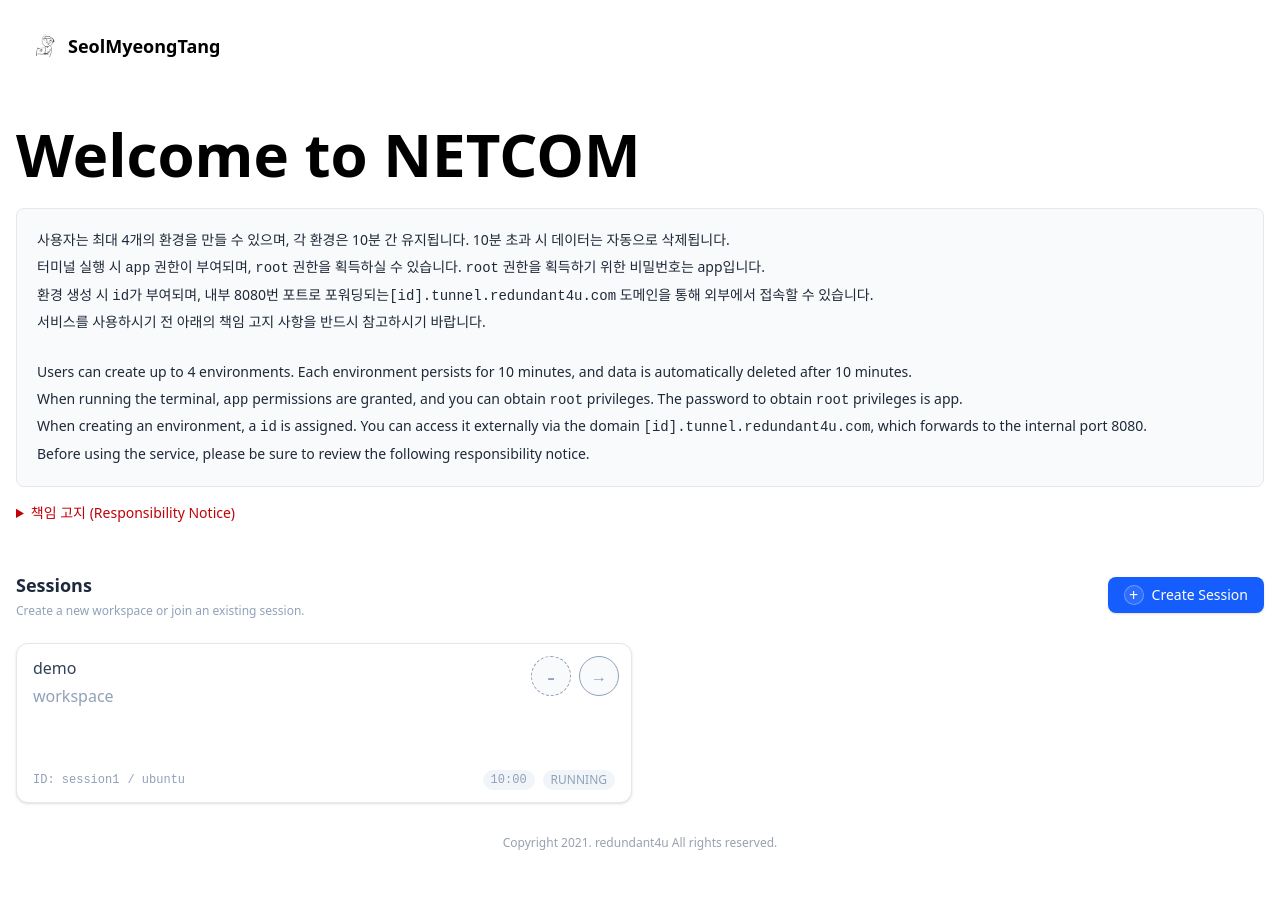
it: creates a session with true existing identity and resets/closes the form
Expected: the text "demo" is shown, [33,657,76,679]
Click the text "Create Session". click: (1200, 595)
box: [1152,585,1248,605]
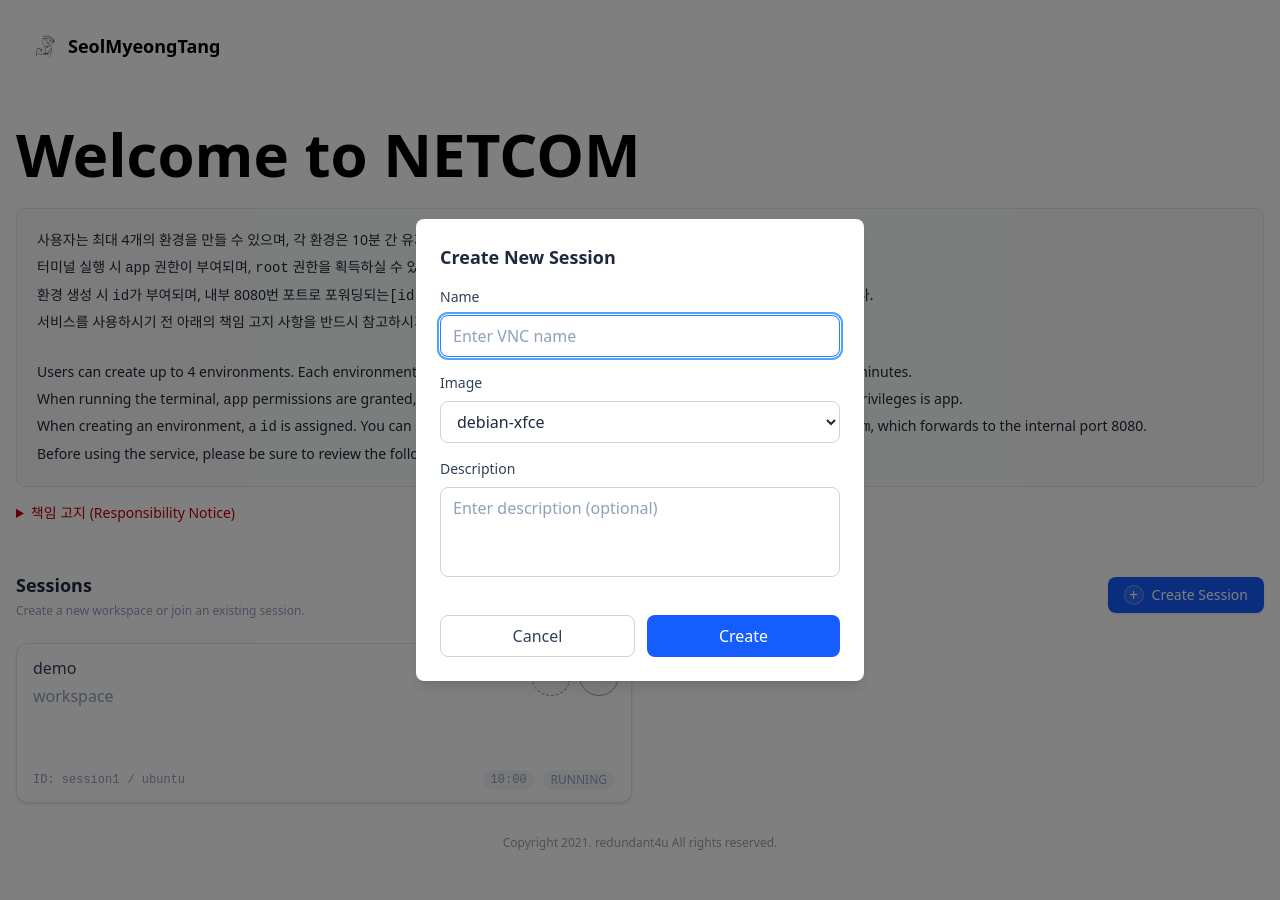
Type " work " into the field labelled "Name". click: (640, 336)
box: [440,315,840,357]
Select "ubuntu" in the dropdown labelled "Image". click: (640, 422)
box: [440,401,840,443]
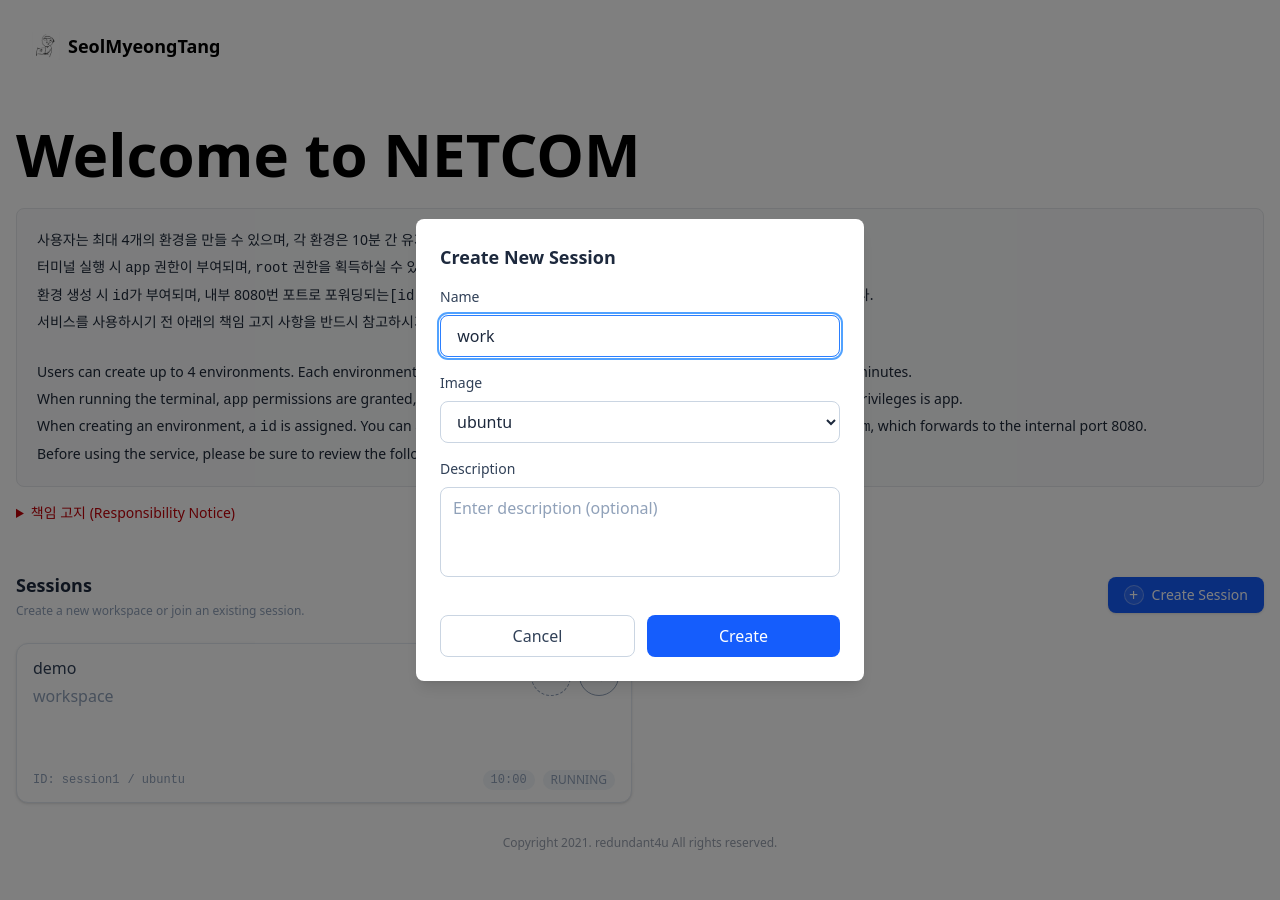
Type " test " into the text box labelled "Description". click: (640, 532)
box: [440,487,840,577]
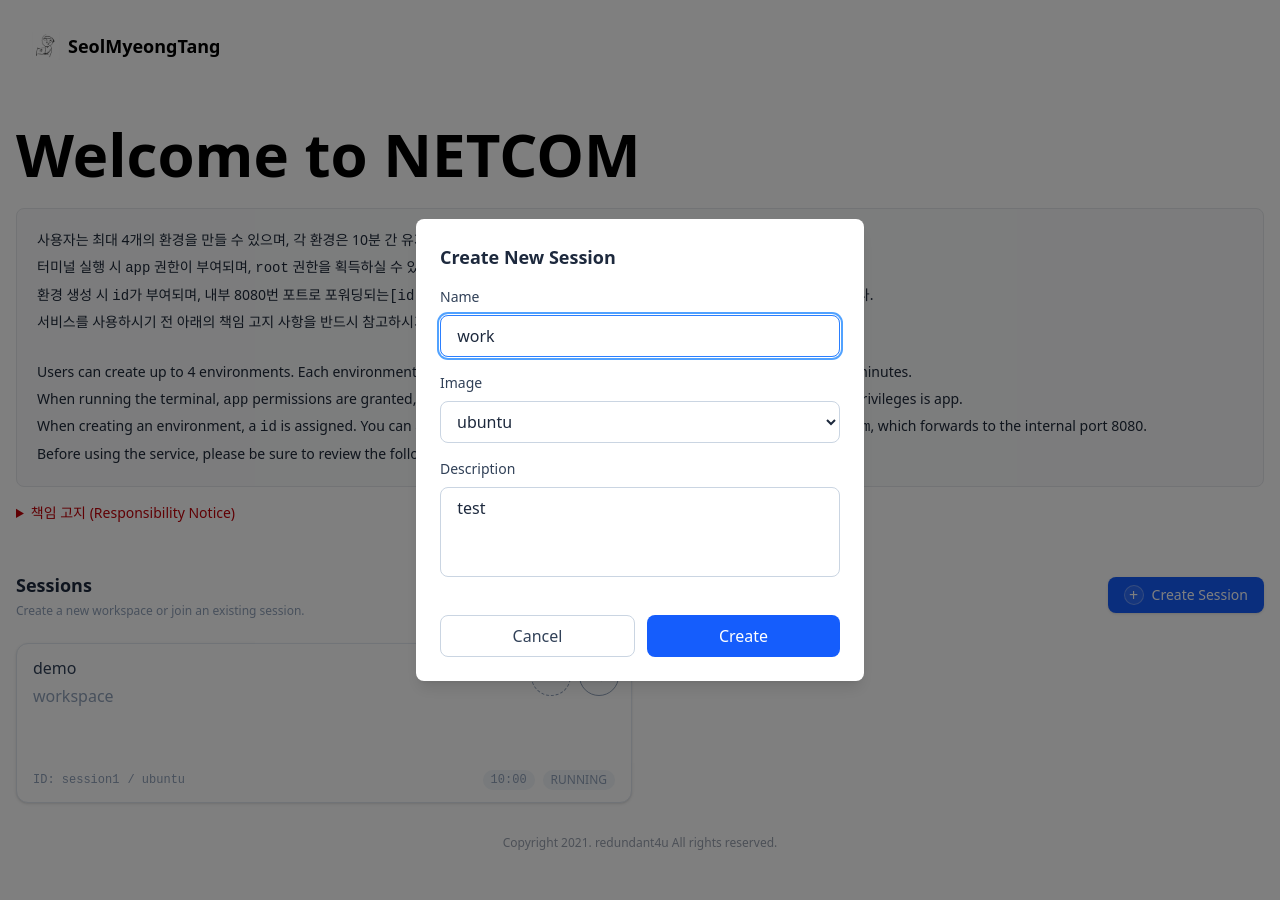
Click the button "Create". click: (744, 636)
box: [647,615,840,657]
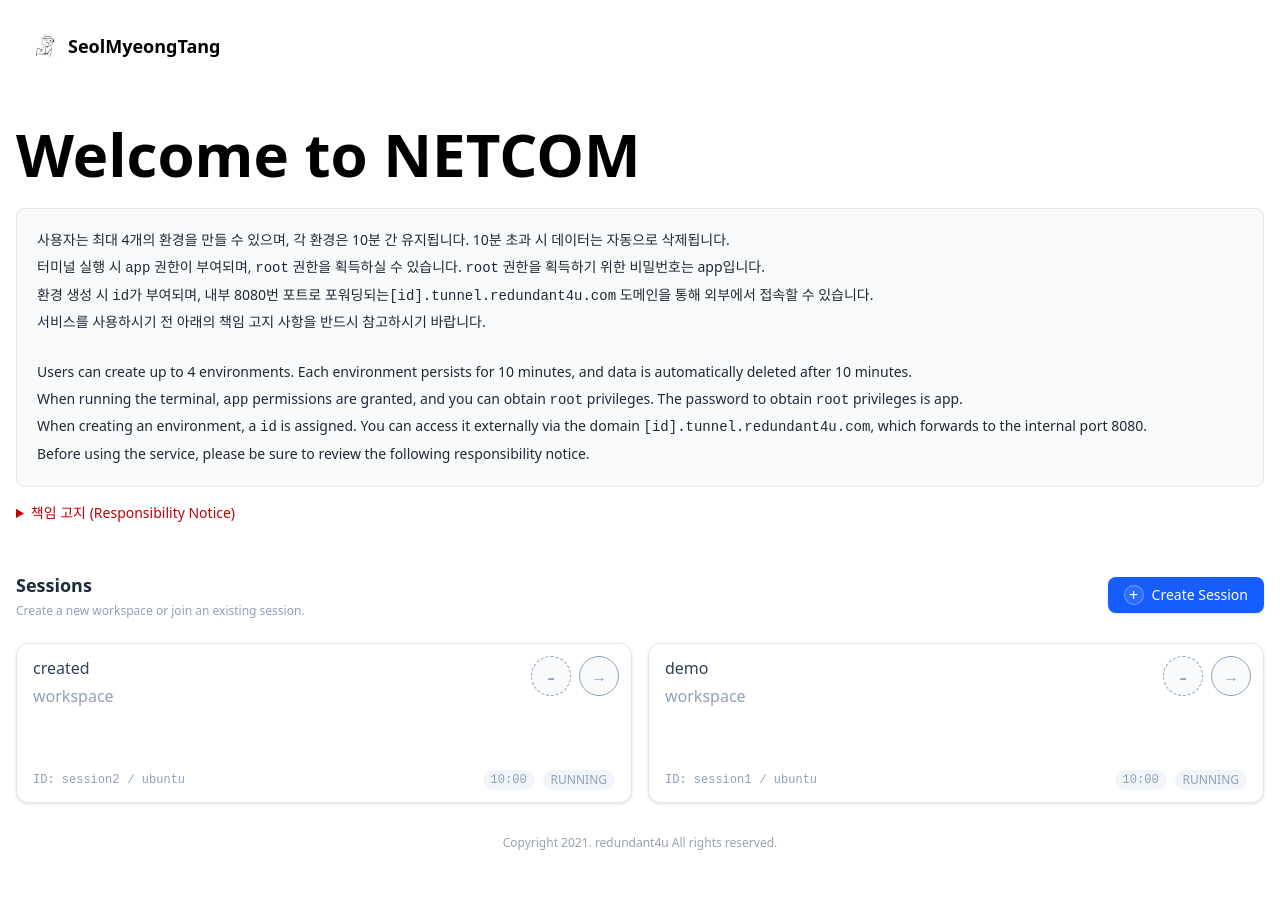
Expected: the text "created" is shown, [33,657,90,679]
Expected: the heading "Create New Session" is gone
Click the text "Create Session". click: (1200, 595)
box: [1152,585,1248,605]
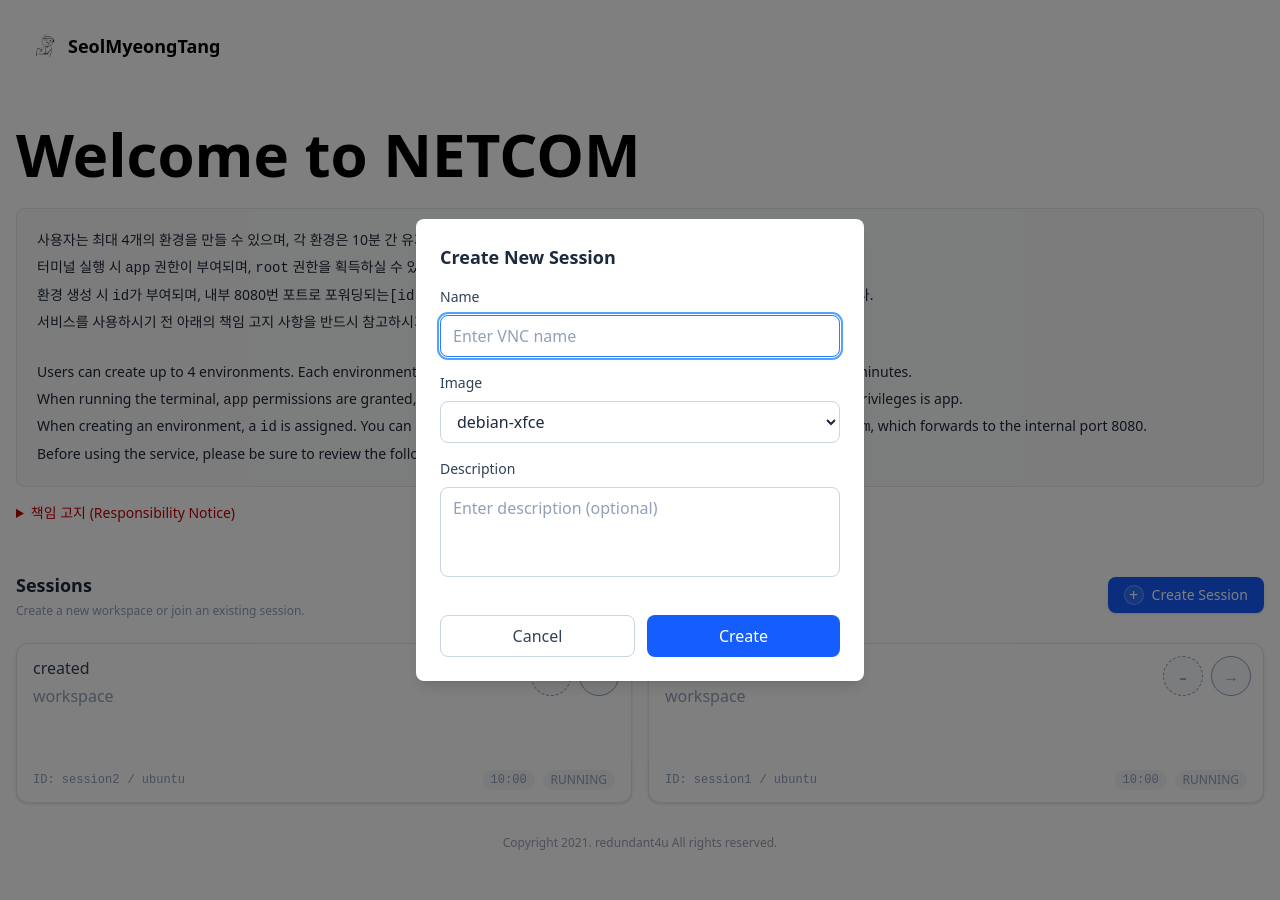
Expected: the field labelled "Name" is empty, [440,315,840,357]
Expected: the dropdown labelled "Image" shows "debian-xfce", [440,401,840,443]
Click the button "Cancel". click: (538, 636)
box: [440,615,635,657]
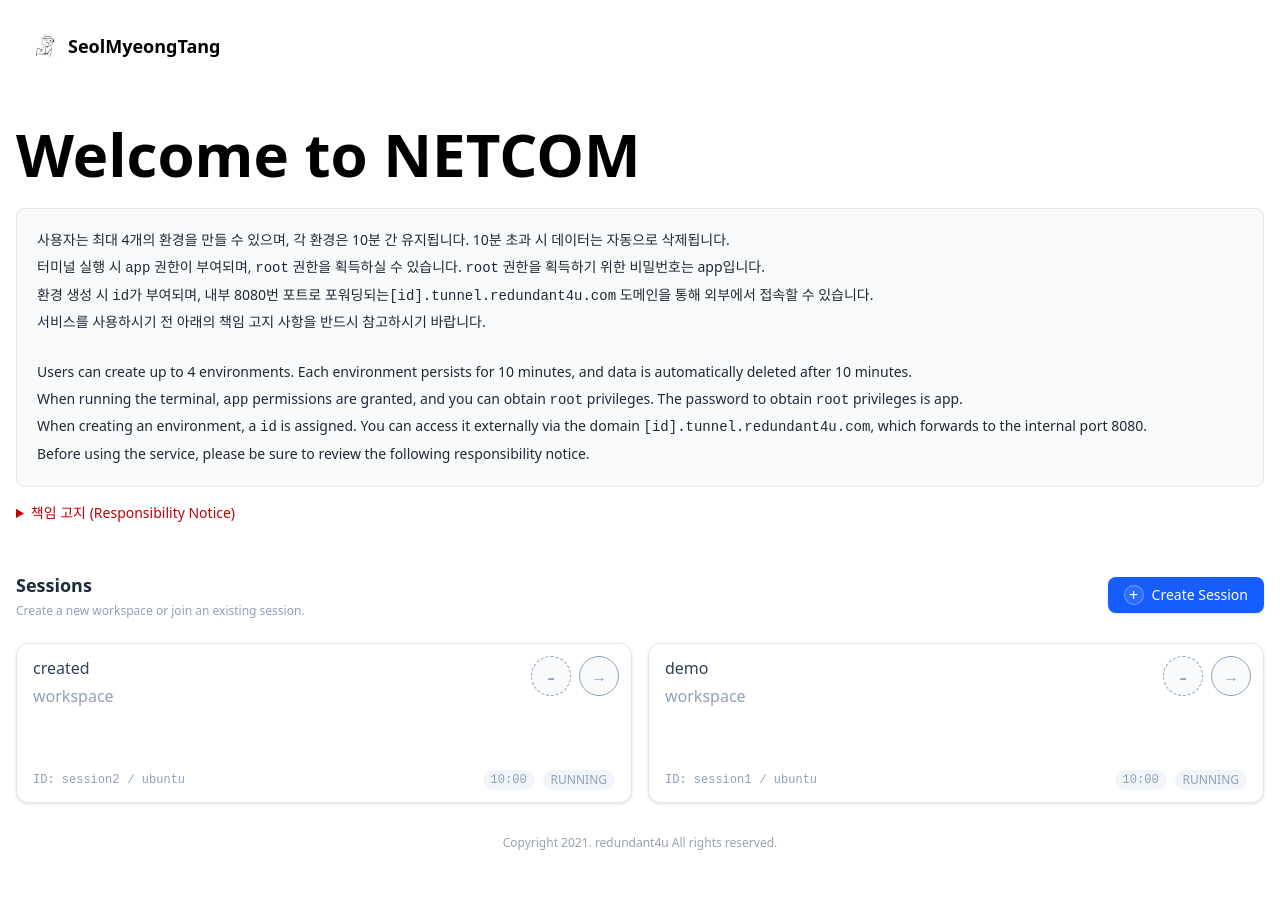
Expected: the heading "Create New Session" is gone
